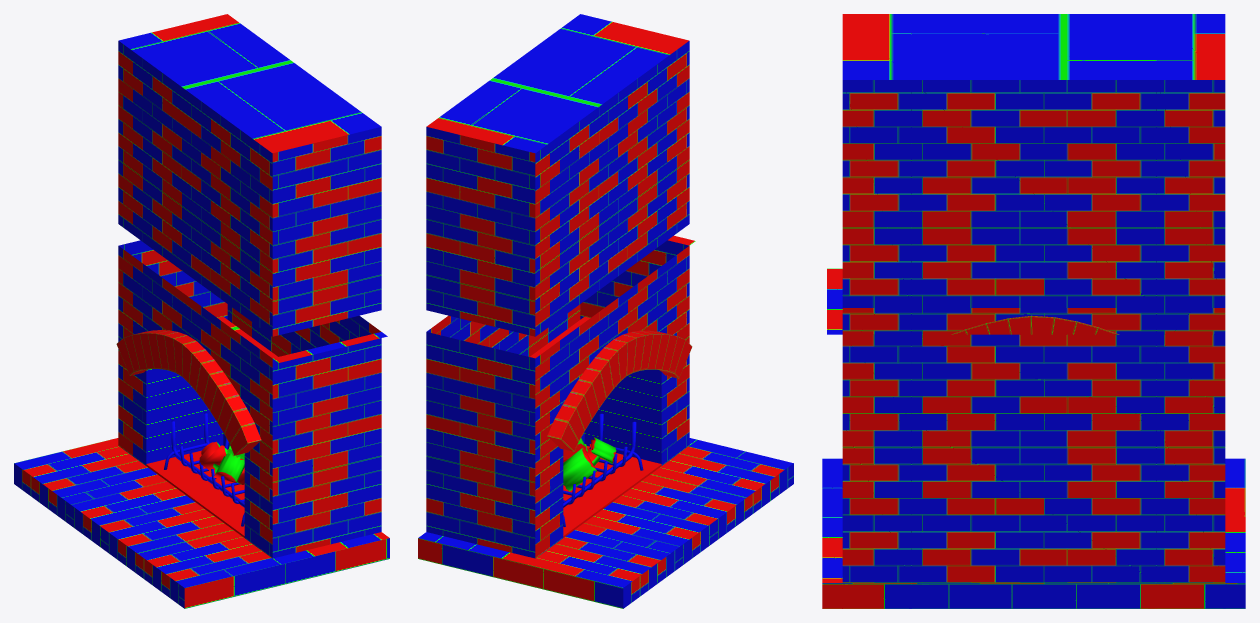
File: FirePlace.fbx
The picture shows the model from 3 angles, left to right: view 1: azimuth 30°, elevation 25°; view 2: azimuth 150°, elevation 25°; view 3: azimuth 270°, elevation 25°; orthographic projection. The views are drawn at different scales.
Visible parts, largest first — view 1: FirePlace; view 2: FirePlace; view 3: FirePlace.
Boxes of the visible parts, x1,y1,x2,y2 form: FirePlace: (14, 14, 389, 608); FirePlace: (418, 14, 793, 608); FirePlace: (822, 14, 1245, 608).
Bounding box in the file's own units: 270 × 537 × 389.
